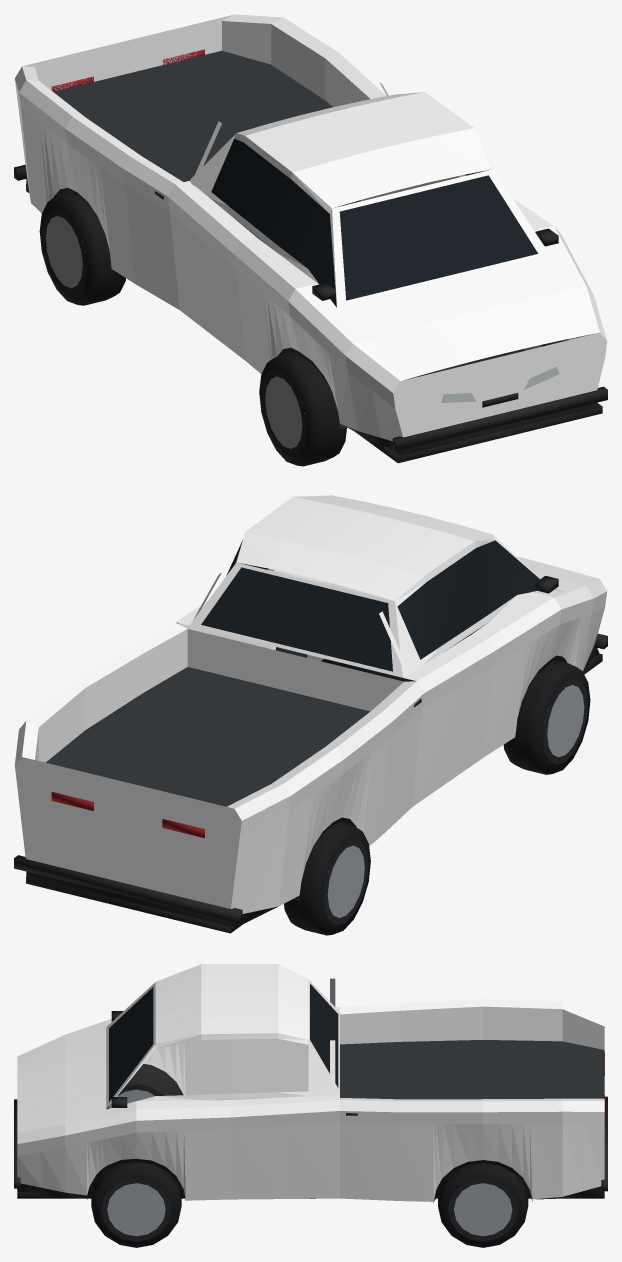
The model's file is bancroft_terral.glb.
3 renders of one model, top to bottom at view 1: azimuth 30°, elevation 25°; view 2: azimuth 150°, elevation 25°; view 3: azimuth 270°, elevation 25°, orthographic. The views are drawn at different scales.
Parts seen in each view (by area): view 1: Body_Paint, Body_Details, Mount_FrontLeft_Wheel_Details, Mount_RearLeft_Wheel_Details; view 2: Body_Paint, Body_Details, Mount_FrontLeft_Wheel_Details, Mount_RearLeft_Wheel_Details; view 3: Body_Paint, Body_Details, Mount_FrontRight_Wheel_Details, Mount_RearRight_Wheel_Details, Mount_FrontLeft_Wheel_Details.
Part boxes in pixels (bbox=[...]): Body_Paint: bbox=[14, 14, 607, 441]; Body_Details: bbox=[14, 49, 607, 463]; Mount_FrontLeft_Wheel_Details: bbox=[259, 352, 346, 466]; Mount_RearLeft_Wheel_Details: bbox=[39, 192, 125, 305]; Body_Paint: bbox=[14, 495, 607, 913]; Body_Details: bbox=[14, 540, 607, 933]; Mount_FrontLeft_Wheel_Details: bbox=[503, 660, 590, 774]; Mount_RearLeft_Wheel_Details: bbox=[284, 822, 370, 935]; Body_Paint: bbox=[17, 964, 604, 1201]; Body_Details: bbox=[14, 984, 607, 1202]; Mount_FrontRight_Wheel_Details: bbox=[91, 1162, 181, 1247]; Mount_RearRight_Wheel_Details: bbox=[438, 1163, 528, 1247]; Mount_FrontLeft_Wheel_Details: bbox=[107, 1084, 162, 1109].
Bounding box in the file's own units: 2.14 × 1.83 × 4.93.
2 materials, 1 textured.
